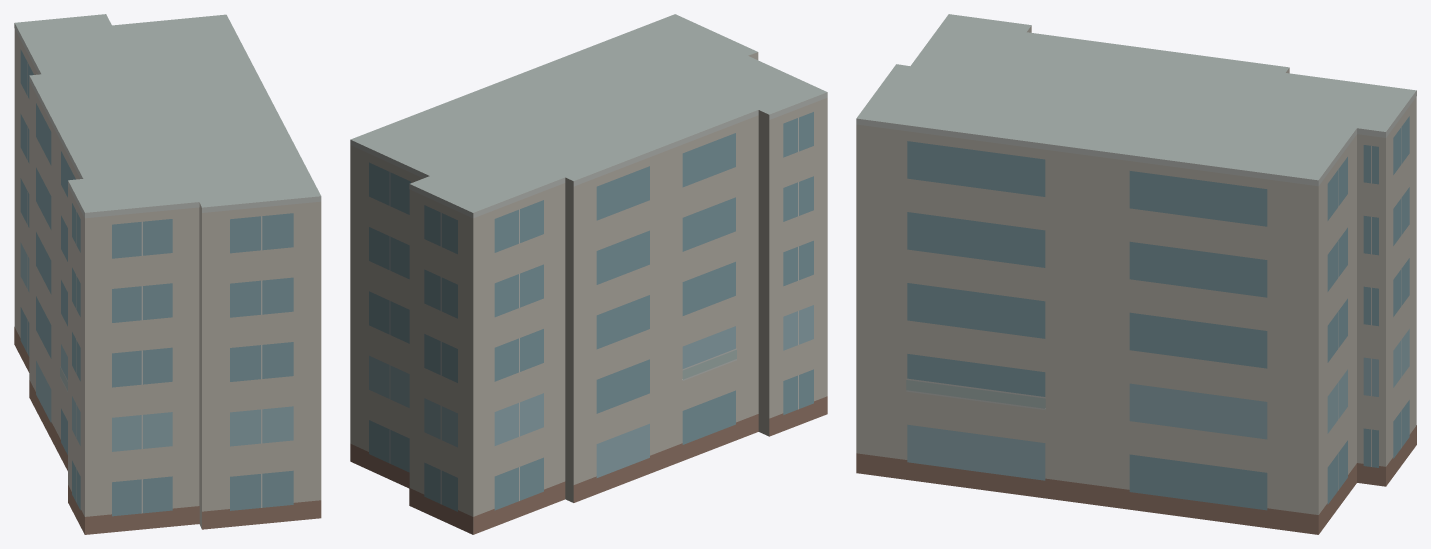
File: survey-upis-32658995.glb
The picture shows the model from 3 angles, left to right: view 1: azimuth 30°, elevation 25°; view 2: azimuth 150°, elevation 25°; view 3: azimuth 270°, elevation 25°; orthographic projection. The views are drawn at different scales.
Parts seen in each view (by area): view 1: survey-upis-32658995.tmp; view 2: survey-upis-32658995.tmp; view 3: survey-upis-32658995.tmp.
Boxes of the visible parts, x1=… form: survey-upis-32658995.tmp: x1=14, y1=14, x2=321, y2=534; survey-upis-32658995.tmp: x1=350, y1=14, x2=827, y2=534; survey-upis-32658995.tmp: x1=856, y1=14, x2=1416, y2=534.
Size of the model in its own units: 14.6 by 14.5 by 20.78.
